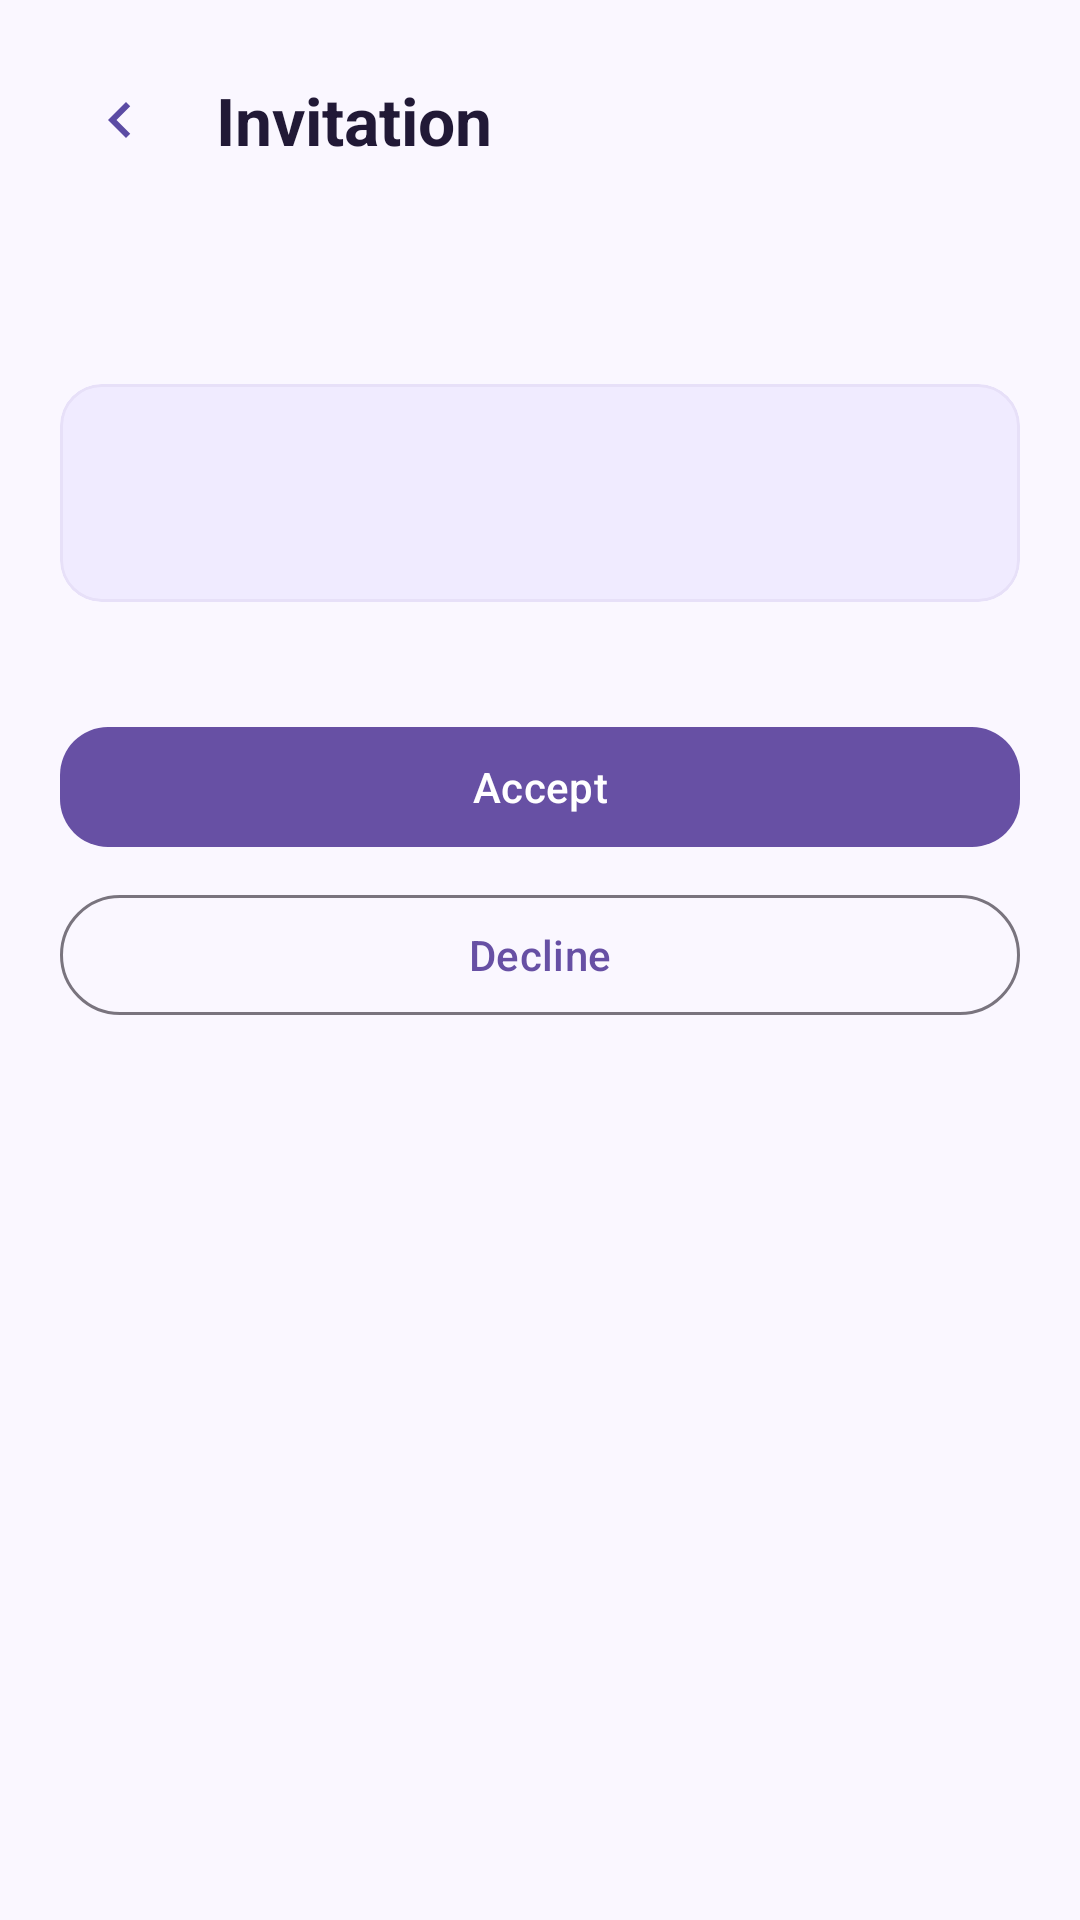

Icons on this 1080x1920 Android screen, each with the point to tap as point (x, y):
Back: point (119, 120)
